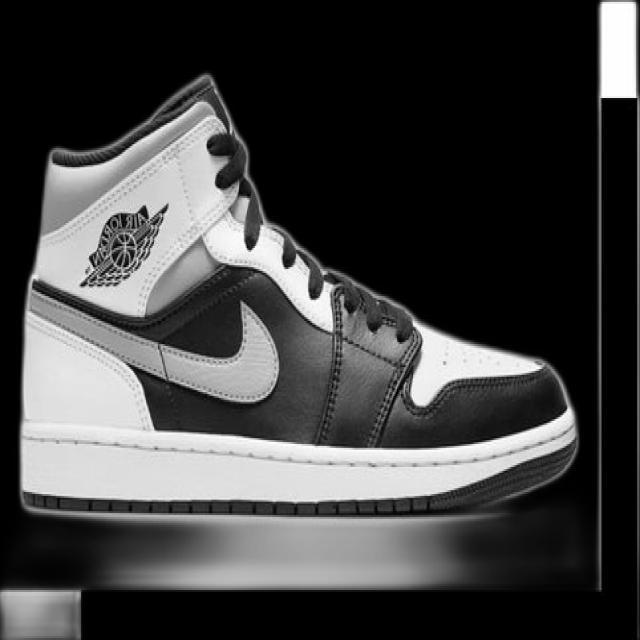J1_InsoleChar: (15, 71, 581, 522)
J1_ShoeLogo: (78, 201, 169, 288)
J1_StitchPattern: (18, 417, 579, 516), (201, 126, 411, 341), (26, 275, 282, 406), (203, 125, 330, 301), (311, 268, 419, 446), (49, 71, 232, 168), (262, 218, 407, 338), (21, 491, 435, 517), (203, 127, 269, 249), (363, 328, 423, 448), (313, 282, 349, 444), (264, 219, 330, 299), (204, 129, 249, 191)
